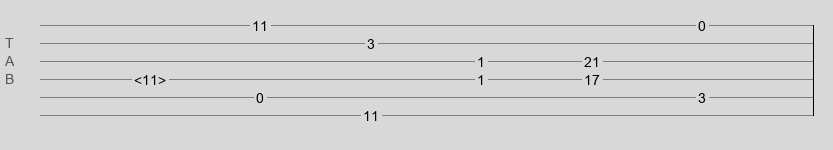0: (256, 90, 264, 100), (698, 18, 706, 28)
1: (477, 72, 485, 82), (477, 54, 485, 64)
11: (252, 18, 268, 28), (363, 108, 379, 118)
17: (584, 72, 600, 82)
21: (584, 54, 600, 64)
3: (367, 36, 375, 46), (698, 90, 706, 100)
harmonic: (134, 72, 166, 82)
